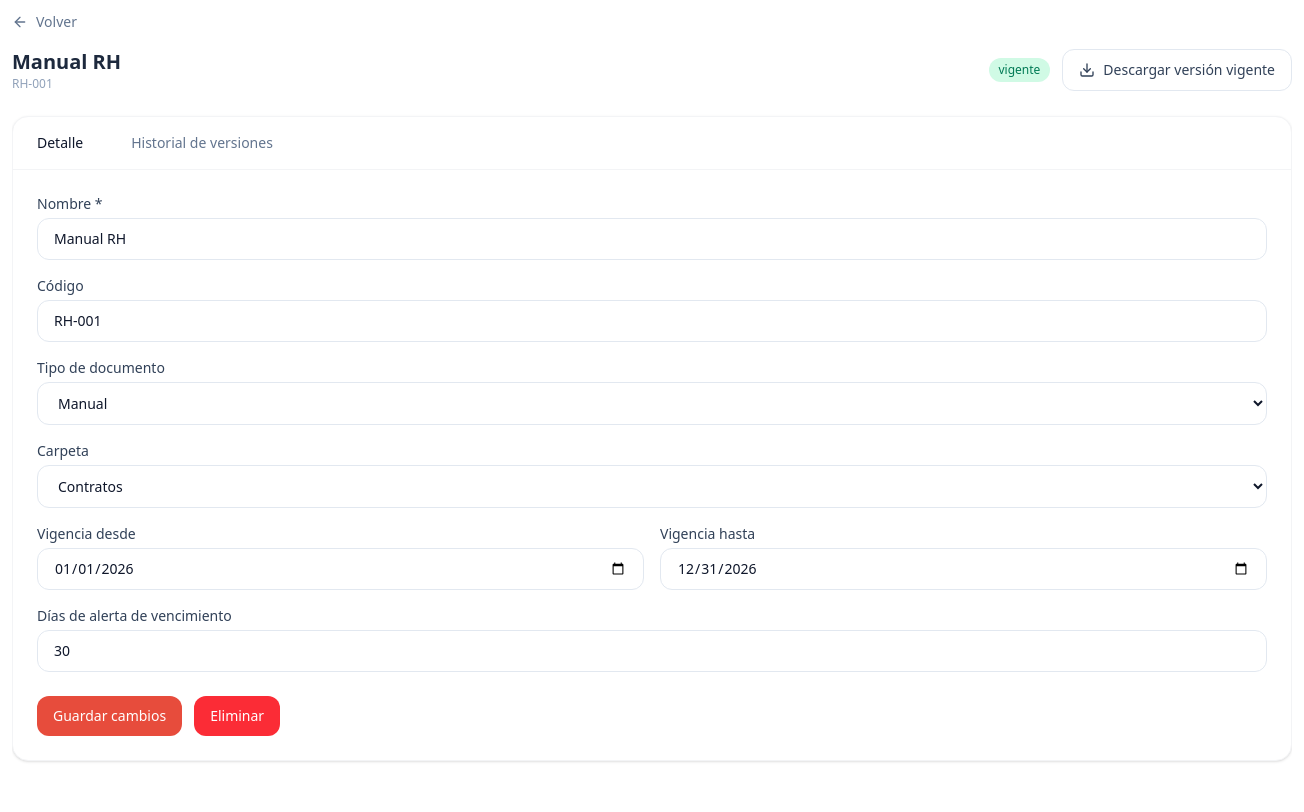
Test case: DocumentoDetalle › edits metadata and refreshes the detail in place
The image size is (1304, 812).
Expected: the heading "Manual RH" is shown, x1=12 y1=48 x2=121 y2=76
Step 1. Replace the text in the field labelled "Nombre *" with "Manual RH actualizado" → coordinates (652, 239), box x1=37 y1=218 x2=1267 y2=260
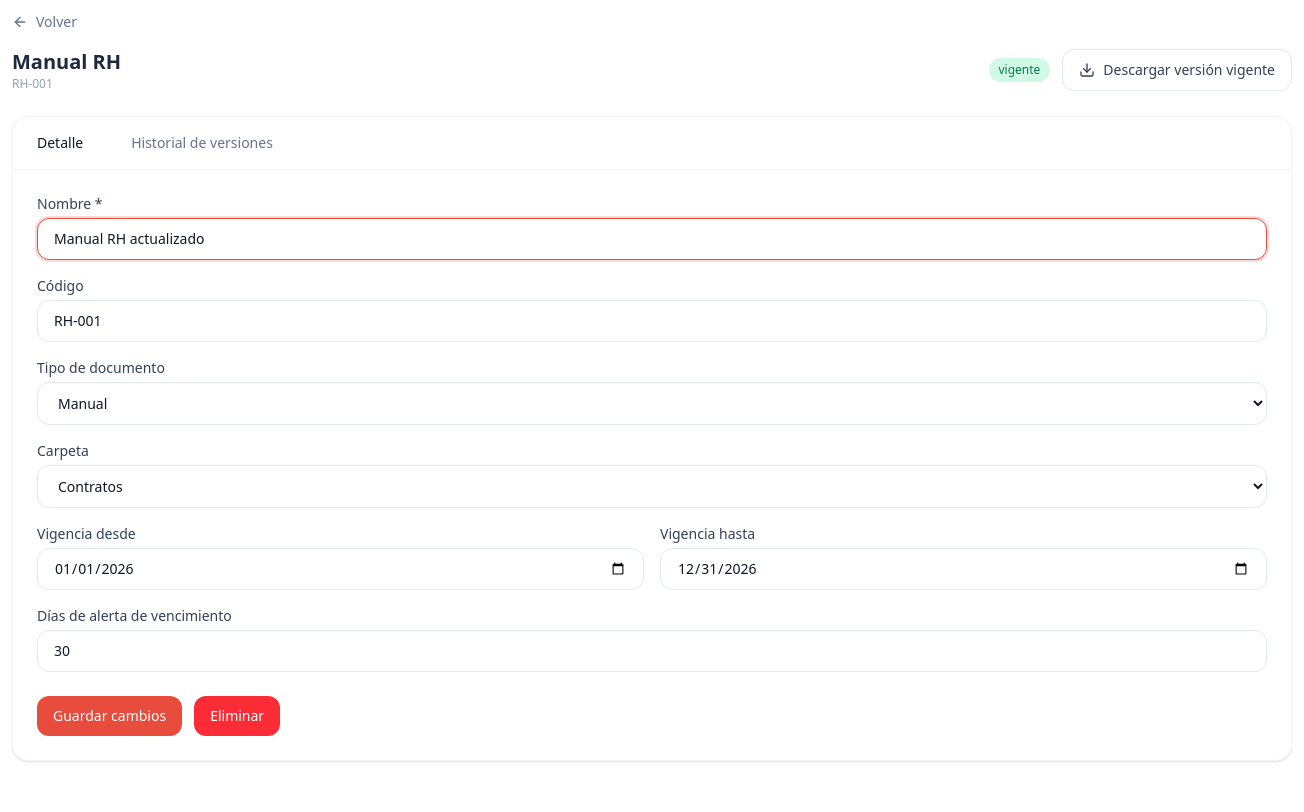
Step 2. Click the button "Guardar cambios" → coordinates (110, 716), box x1=37 y1=696 x2=182 y2=736
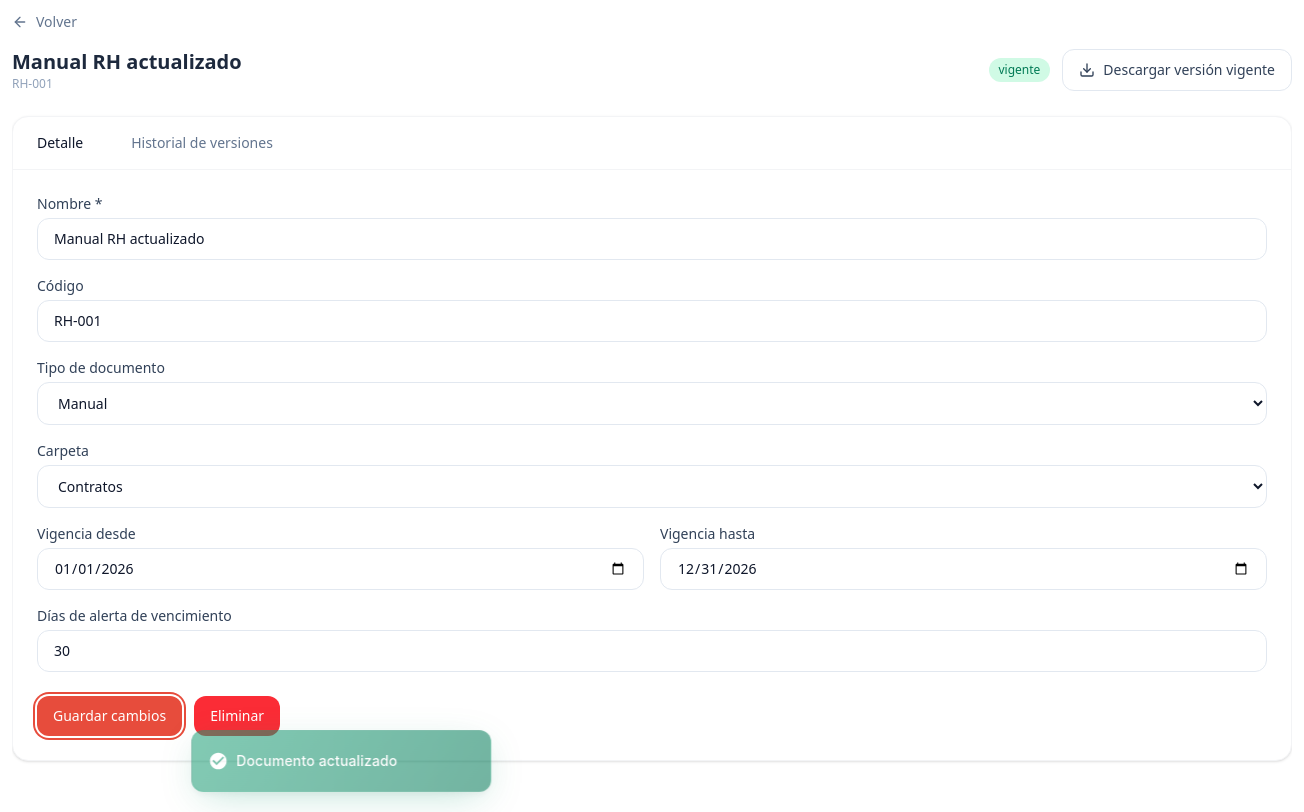
Expected: the text "Documento actualizado" is shown, x1=180 y1=751 x2=369 y2=771
